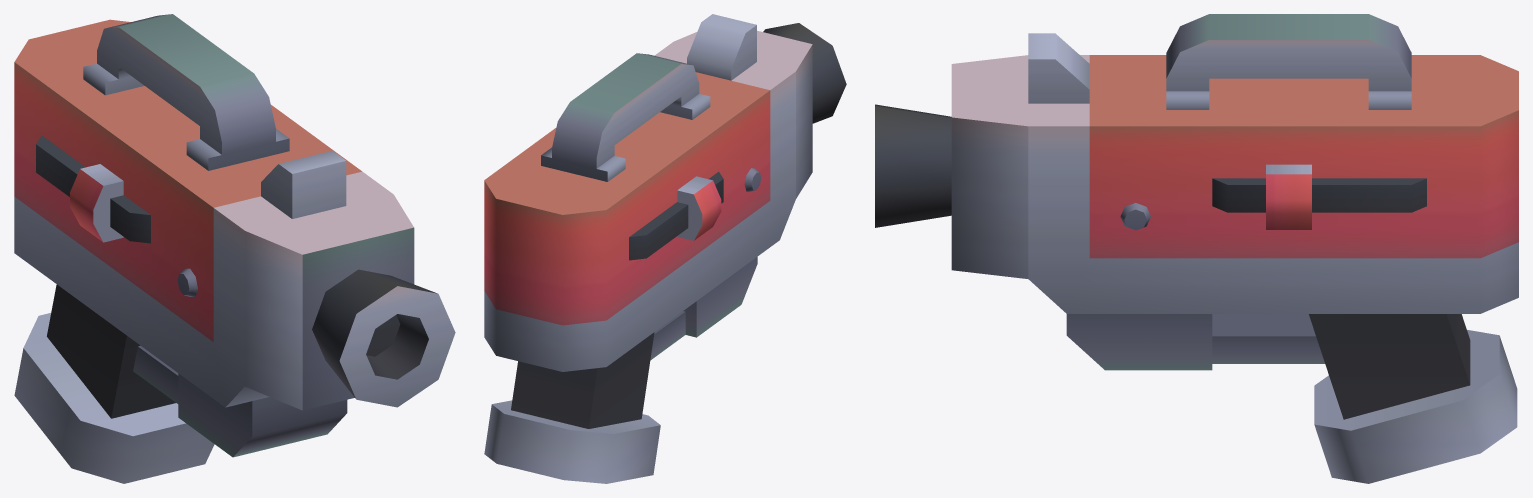
3 renders of one model, left to right at view 1: azimuth 30°, elevation 25°; view 2: azimuth 150°, elevation 25°; view 3: azimuth 270°, elevation 25°, orthographic. The views are drawn at different scales.
Visible parts, largest first — view 1: blaster-b; view 2: blaster-b; view 3: blaster-b.
Part boxes in pixels (x1,y1,x2,y2): blaster-b: [14, 14, 455, 483]; blaster-b: [484, 14, 846, 483]; blaster-b: [875, 14, 1518, 483].
Bounding box in the file's own units: 0.1107 × 0.2217 × 0.3.
1 material, 1 textured.
